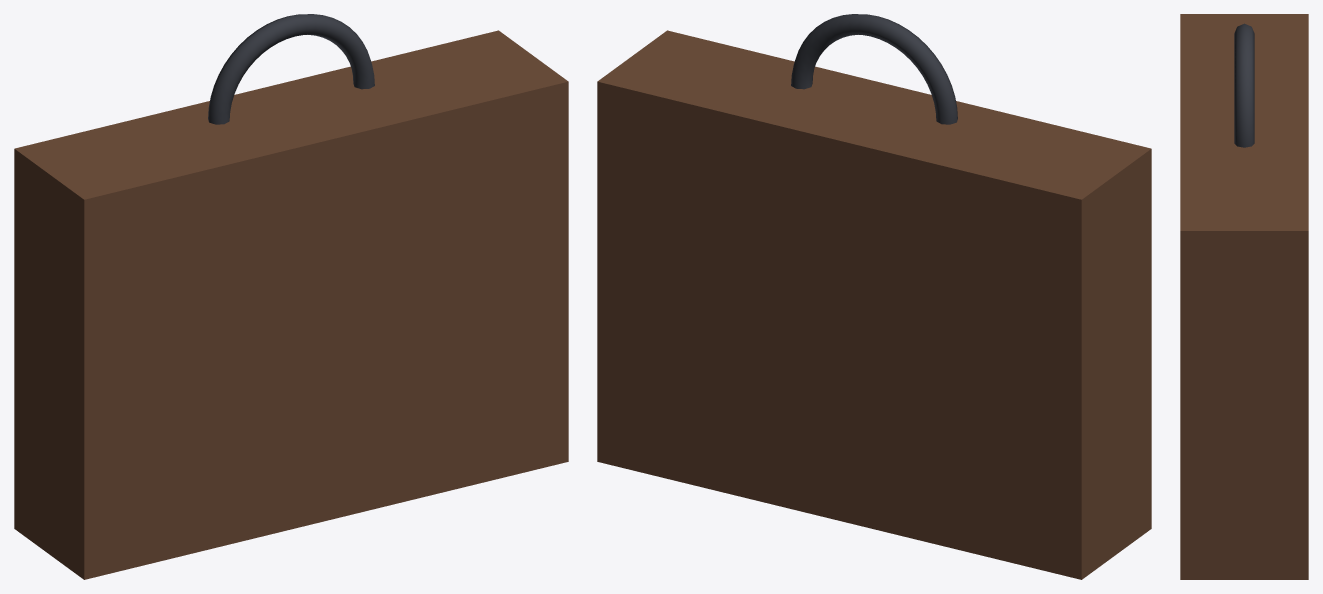
Rendered from bag.glb.
3 renders of one model, left to right at view 1: azimuth 30°, elevation 25°; view 2: azimuth 150°, elevation 25°; view 3: azimuth 270°, elevation 25°, orthographic. The views are drawn at different scales.
Visible parts, largest first — view 1: box, tor; view 2: box, tor; view 3: box, tor.
Part boxes in pixels (x1,y1,x2,y2): box: [14, 30, 568, 579]; tor: [208, 14, 374, 124]; box: [597, 30, 1151, 579]; tor: [791, 14, 957, 124]; box: [1180, 14, 1308, 579]; tor: [1234, 23, 1254, 147].
Size of the model in its own units: 0.4 by 0.378 by 0.1.
